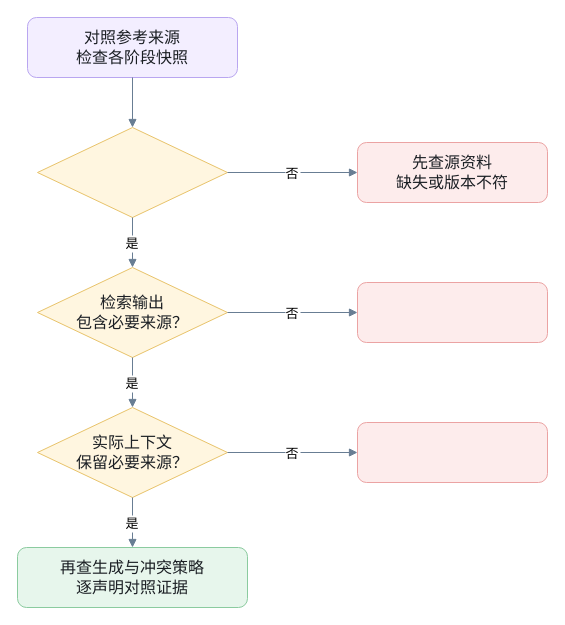
The diagram is 565 pixels wide and 625 high, and some of its shapes have lost their labels. The centre of each missing label's shape, as x and y in pixels:
"先查上下文组装 核对选择与截取" goes at pixel 452 452.
"先查检索输出 核对过滤与候选" goes at pixel 452 312.
"资料存在且 版本符合参考？" goes at pixel 132 172.
